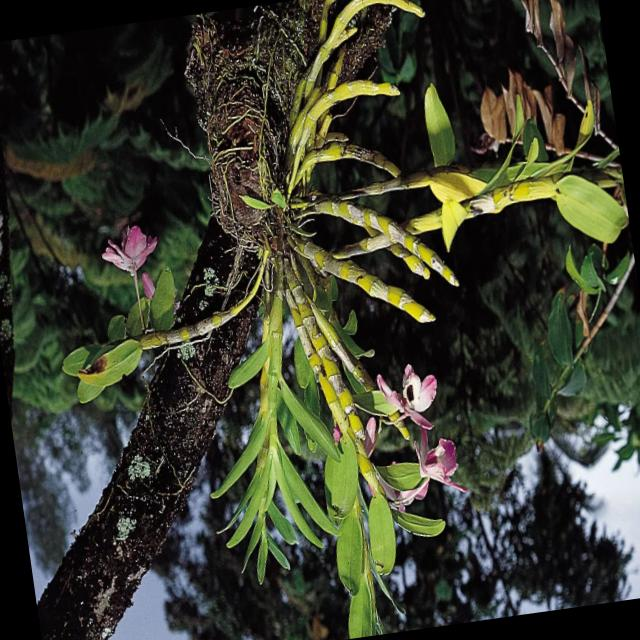flower: (377, 364, 437, 430), (416, 430, 465, 491), (104, 226, 160, 277)
leaf: (275, 441, 339, 538), (279, 382, 339, 465), (554, 175, 627, 242), (557, 176, 627, 243), (219, 409, 267, 494), (278, 470, 323, 547), (79, 339, 143, 388), (78, 343, 143, 391), (325, 438, 359, 519), (366, 490, 398, 576), (228, 473, 265, 547), (424, 84, 456, 167), (337, 509, 365, 595), (228, 341, 270, 391), (258, 519, 289, 584), (566, 246, 604, 296), (229, 343, 269, 387), (149, 269, 177, 331), (350, 575, 377, 637), (152, 269, 175, 330), (393, 513, 445, 536), (269, 503, 298, 544), (377, 463, 421, 490), (293, 343, 315, 390), (266, 530, 290, 569), (243, 195, 272, 210)
plant: (25, 0, 640, 640)
root: (186, 19, 306, 244)
stem: (65, 274, 260, 388), (285, 289, 385, 500), (290, 0, 424, 149), (334, 178, 559, 258), (293, 288, 369, 463), (287, 80, 399, 194), (318, 203, 458, 285), (312, 250, 435, 321), (311, 302, 374, 391), (299, 141, 399, 176), (265, 297, 283, 428), (329, 46, 346, 89), (320, 0, 337, 41), (321, 111, 332, 139)
